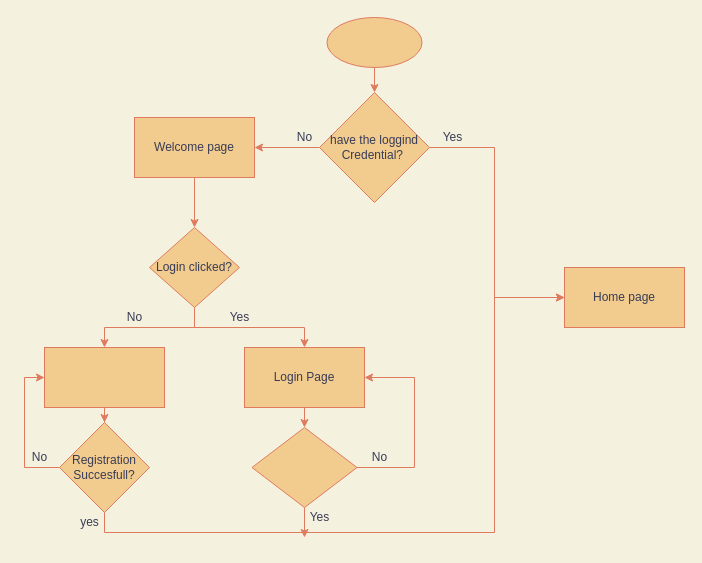
The diagram is 702 pixels wide and 563 high, and some of its shapes have lost their labels. Each missing label, with the centre of its shape:
"Is successfully loged?" goes at point (304, 467).
"Register page" goes at point (104, 377).
"User" goes at point (374, 42).
